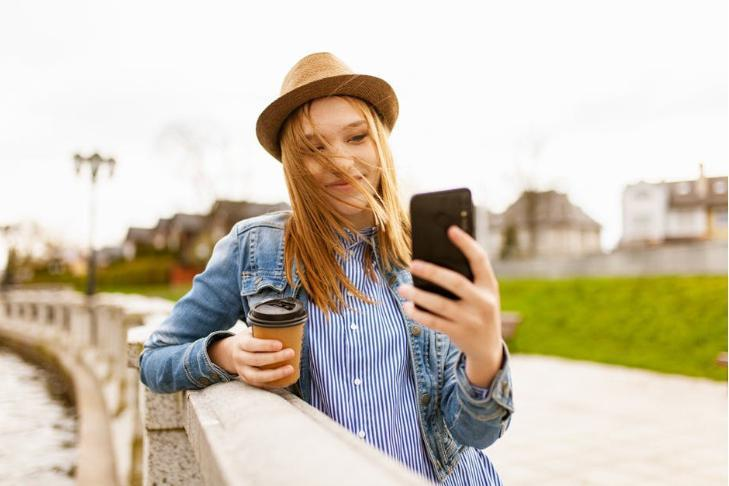face: (291, 95, 383, 214)
